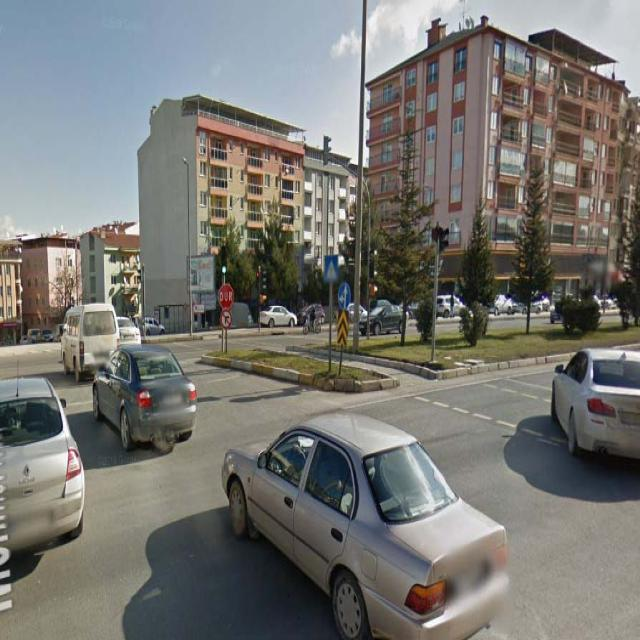dur: (219, 284, 233, 309)
ilerisol: (338, 283, 349, 308)
sagadonulmez: (220, 310, 232, 329)
yesil: (221, 247, 227, 274)
